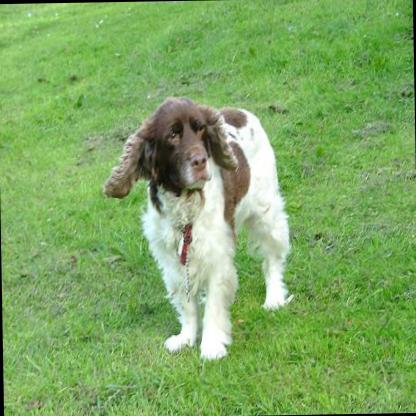English_springer: (98, 92, 293, 364)
